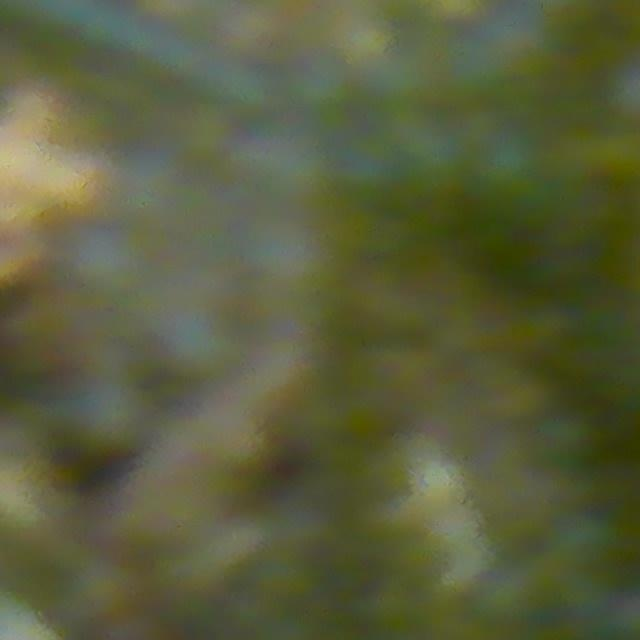SeaGrape: (62, 220, 147, 302), (468, 124, 547, 208)
